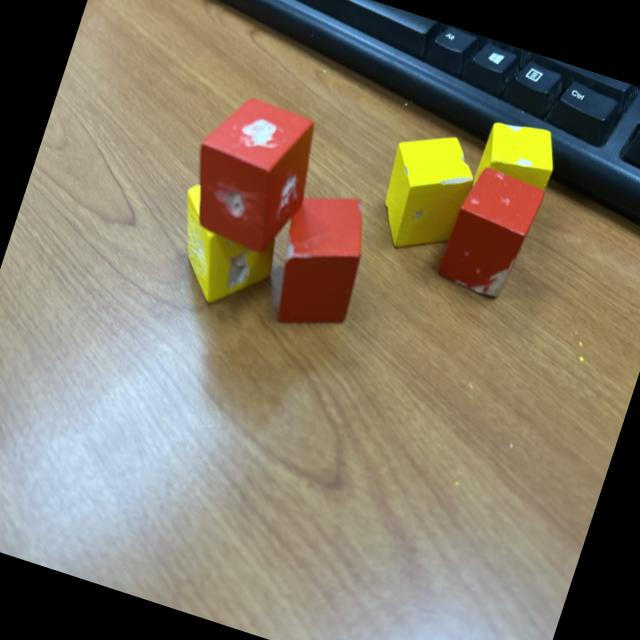broken: (174, 86, 330, 262), (258, 180, 382, 342), (154, 178, 292, 320), (366, 121, 486, 266), (434, 162, 550, 306), (471, 112, 566, 205)
